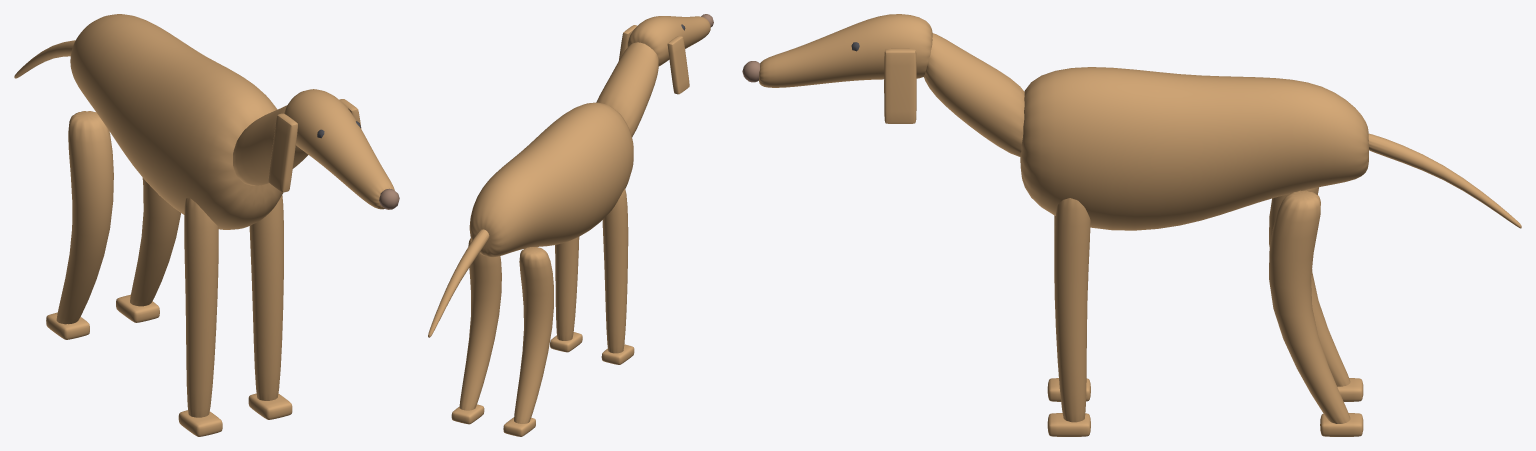
The model's file is dog_vizsla.glb.
The picture shows the model from 3 angles, left to right: view 1: azimuth 30°, elevation 25°; view 2: azimuth 150°, elevation 25°; view 3: azimuth 270°, elevation 25°; orthographic projection. The views are drawn at different scales.
Parts seen in each view (by area): view 1: dog_vizsla; view 2: dog_vizsla; view 3: dog_vizsla.
Part boxes in pixels (x1,y1,x2,y2): dog_vizsla: [14, 14, 399, 436]; dog_vizsla: [428, 14, 713, 436]; dog_vizsla: [742, 14, 1521, 436].
Size of what is drawn, in the model's own units: 0.2346 by 0.8061 by 1.43.
